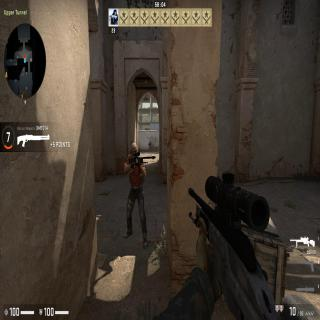T-Body: (123, 141, 149, 247), (149, 141, 151, 151)
T-Head: (130, 142, 140, 156), (150, 141, 150, 143)
